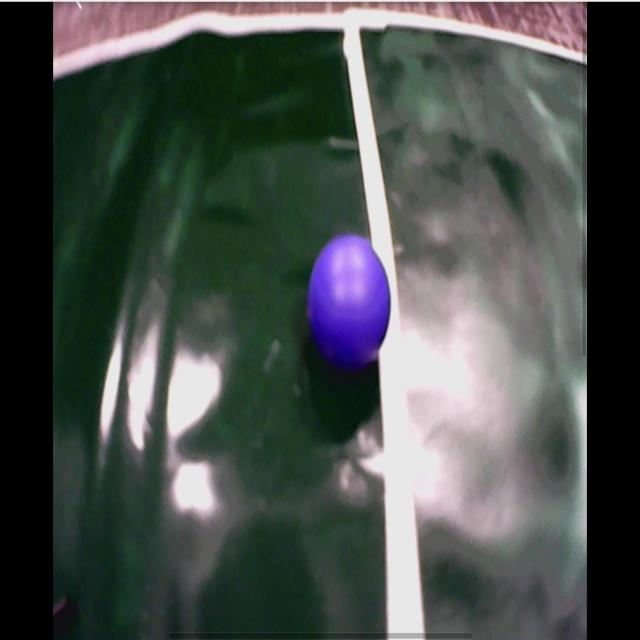ball: (308, 237, 392, 361)
